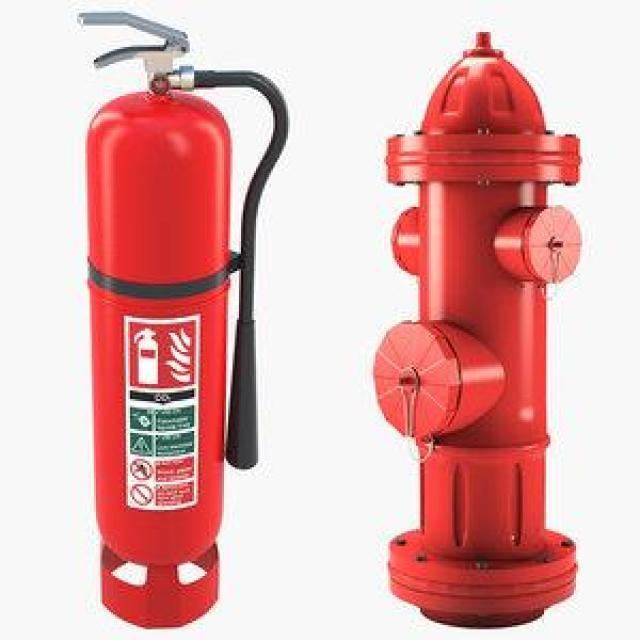fire_extinguisher: (62, 2, 296, 638)
